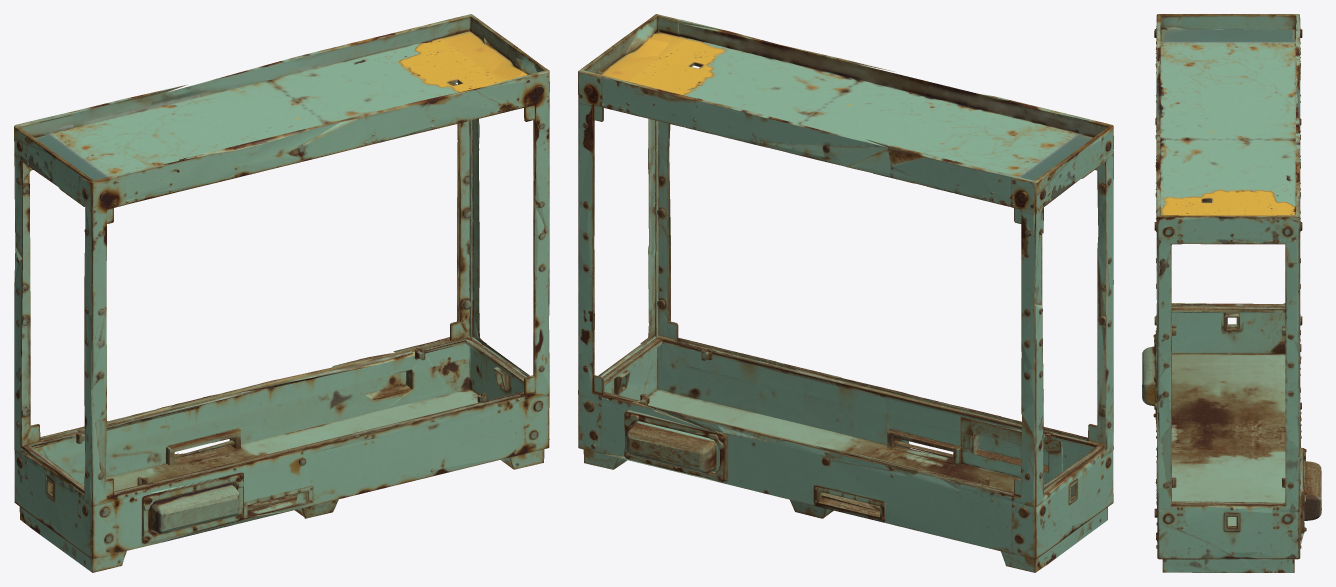
Rendered from vasca_telaio.glb.
3 renders of one model, left to right at view 1: azimuth 30°, elevation 25°; view 2: azimuth 150°, elevation 25°; view 3: azimuth 270°, elevation 25°, orthographic. The views are drawn at different scales.
Bounding box in the file's own units: 1.9 × 1.55 × 0.7066.
1 material, 1 textured.
